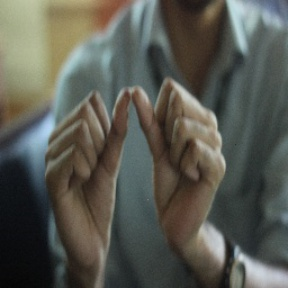A: (62, 78, 207, 207)
